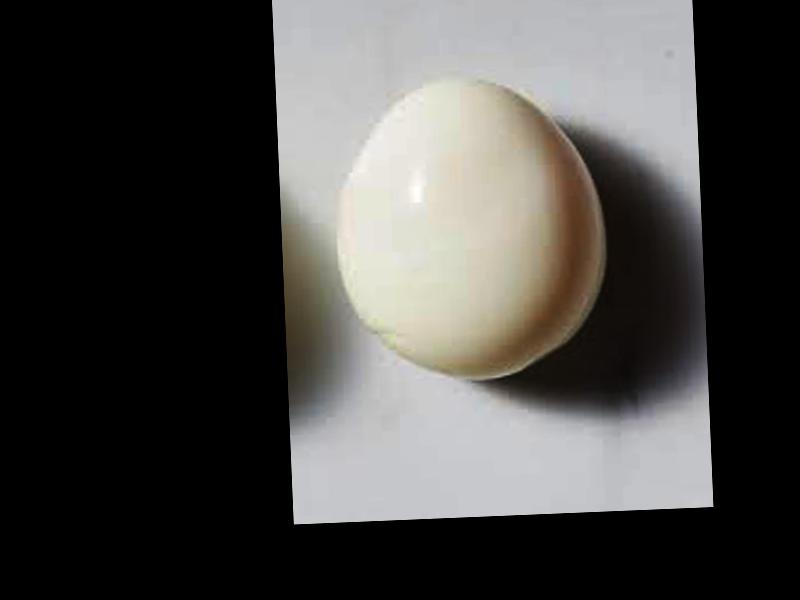Eggs: (331, 75, 611, 386)
